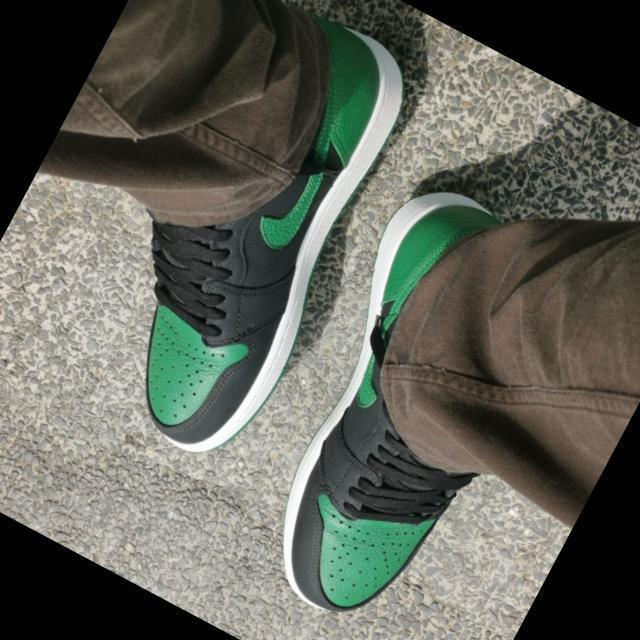nike original jordan 1: (56, 0, 445, 476), (212, 165, 587, 640)
